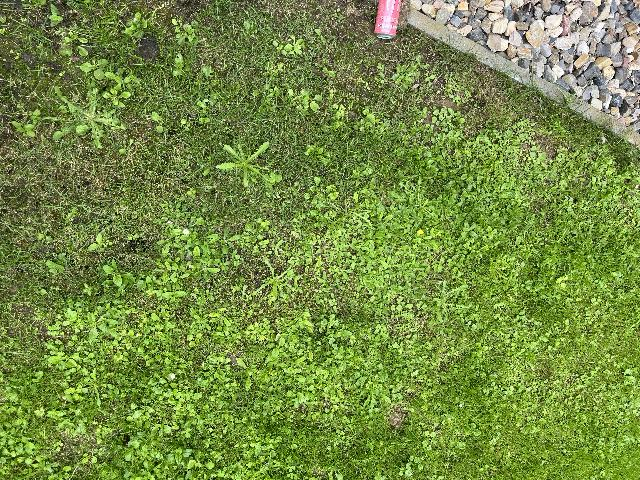can: (371, 0, 404, 41)
